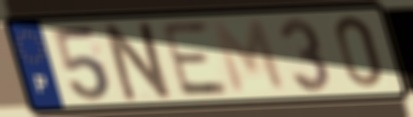0: (333, 13, 388, 92)
3: (277, 14, 333, 95)
5: (49, 23, 114, 104)
E: (157, 19, 233, 99)
M: (209, 17, 291, 96)
N: (101, 18, 177, 104)
